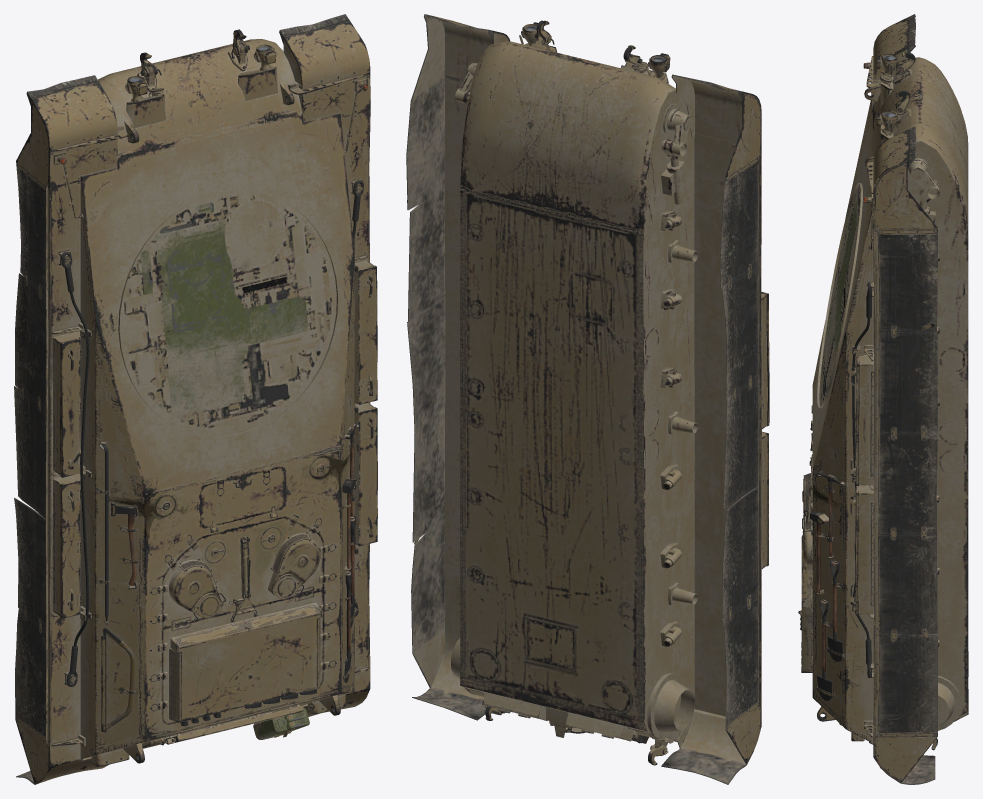
The model's file is Hull.glb.
3 views of the same model, side by side, from view 1: azimuth 30°, elevation 25°; view 2: azimuth 150°, elevation 25°; view 3: azimuth 270°, elevation 25° (orthographic). The views are drawn at different scales.
Visible parts, largest first — view 1: set_0_group_0; view 2: set_0_group_0; view 3: set_0_group_0.
Part boxes in pixels (bbox=[...]): set_0_group_0: bbox=[14, 14, 377, 784]; set_0_group_0: bbox=[406, 14, 769, 784]; set_0_group_0: bbox=[798, 14, 968, 784].
Size of the model in its own units: 3.53 by 7.34 by 1.75.
Materials: 1 (1 with a texture image).
